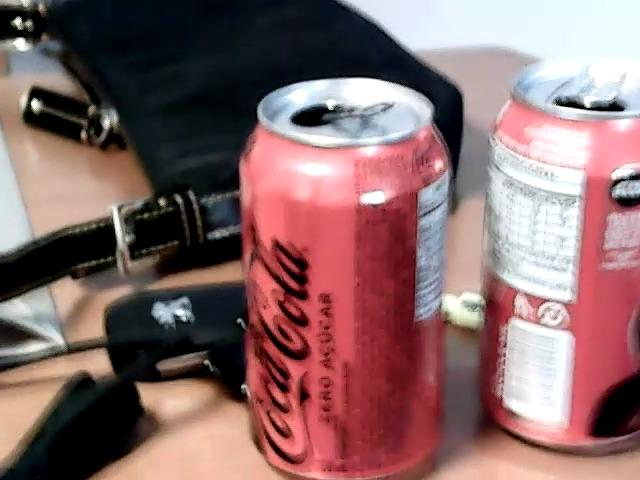coke: (242, 94, 447, 480), (487, 85, 640, 446)
